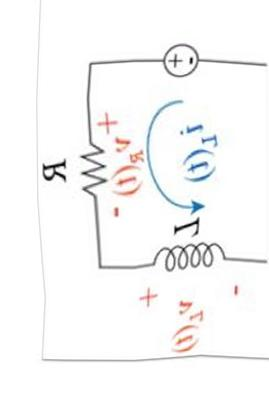Battery: (145, 32, 210, 89)
